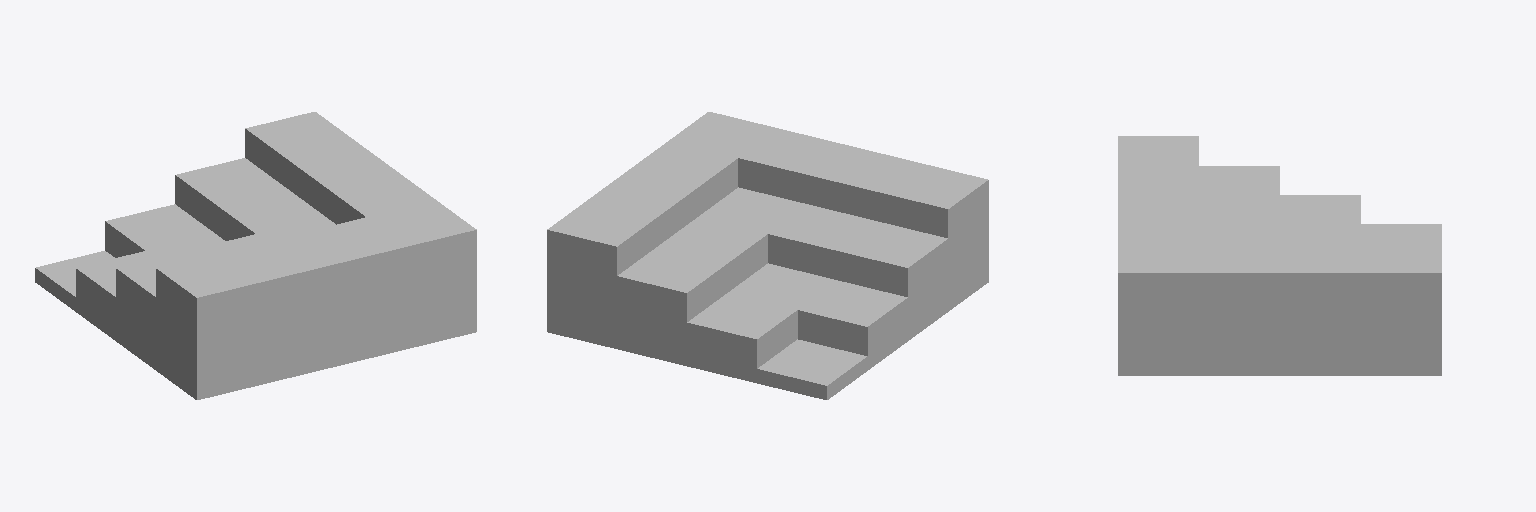
Rendered from floor_stairsCornerInner.obj.
The picture shows the model from 3 angles: view 1: azimuth 30°, elevation 25°; view 2: azimuth 150°, elevation 25°; view 3: azimuth 270°, elevation 25°; orthographic projection.
Parts seen in each view (by area): view 1: floor_stairsCornerInner; view 2: floor_stairsCornerInner; view 3: floor_stairsCornerInner.
Boxes of the visible parts, box(x1,y1,x2,y2) form: floor_stairsCornerInner: box(35, 112, 476, 399); floor_stairsCornerInner: box(547, 112, 988, 399); floor_stairsCornerInner: box(1118, 136, 1441, 375).
Bounding box in the file's own units: 1 × 0.35 × 1.